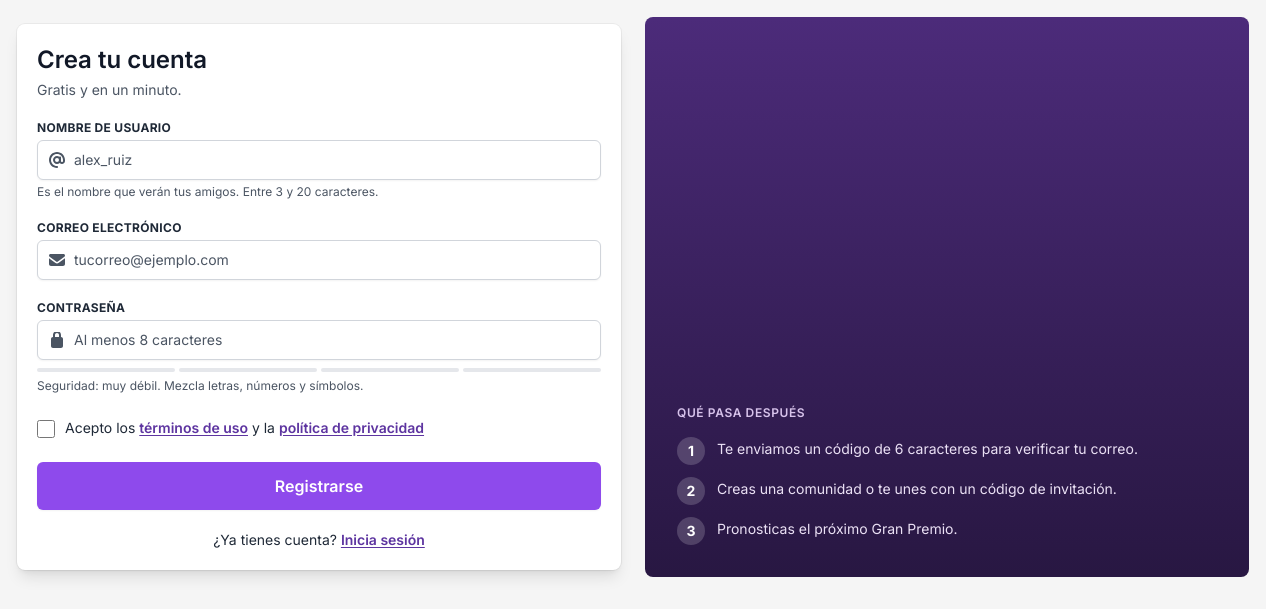
it: registro page › validates the email live and clears the error when emptied
Type "alex@" into the field labelled "Correo electrónico" at (319, 260), box 37,240 -> 601,280
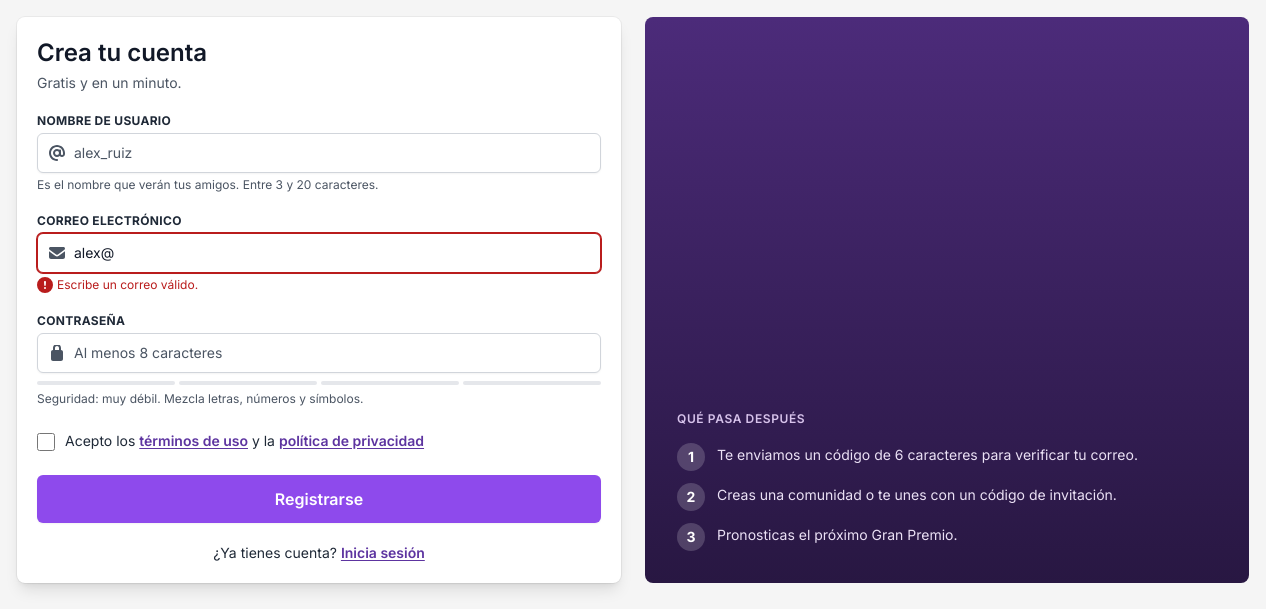
Expected: the text "Escribe un correo válido." is shown, 57,277 -> 198,293
Clear the field labelled "Correo electrónico" at (319, 253), box 37,233 -> 601,273
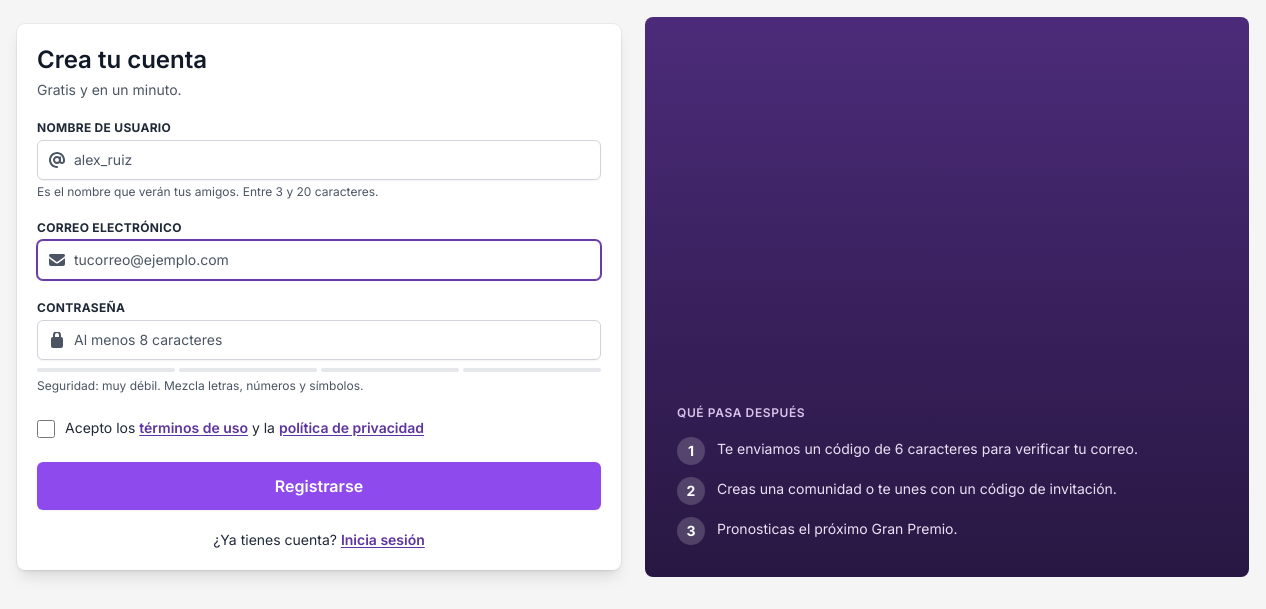
Expected: the text "Escribe un correo válido." is gone
